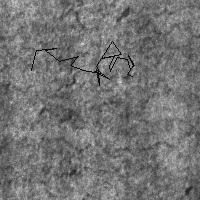crazing: (2, 6, 84, 99), (2, 134, 155, 179), (77, 104, 199, 158), (31, 41, 134, 85)
